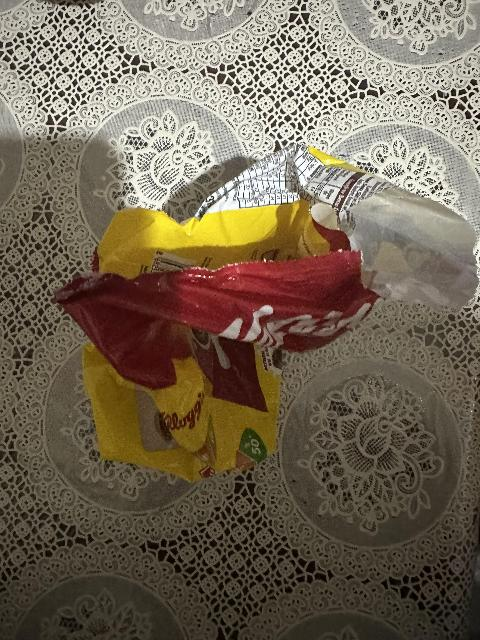Plastik: (71, 160, 480, 470)
